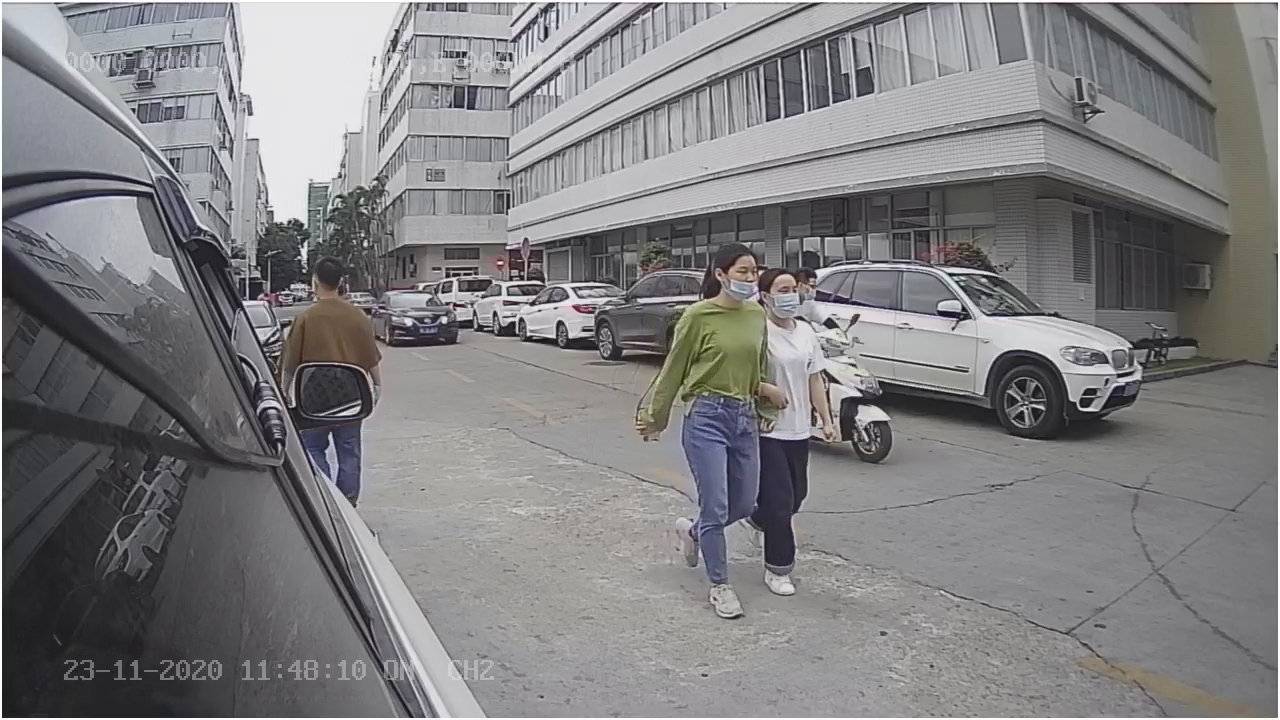person: (634, 229, 768, 618)
